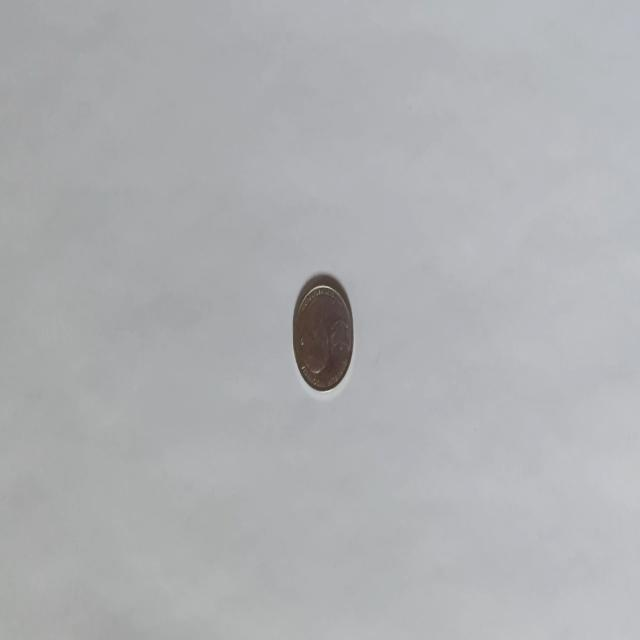seribu rupiah koin: (292, 273, 354, 393)
